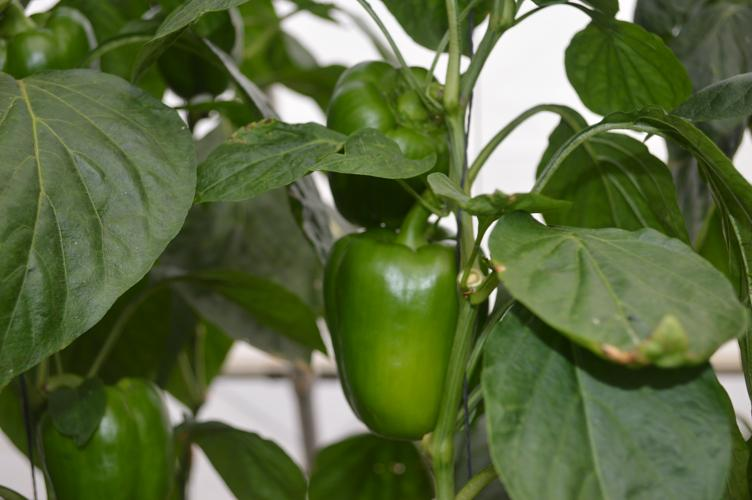BellPepper: (326, 235, 485, 441), (324, 60, 448, 221), (38, 380, 189, 500)
